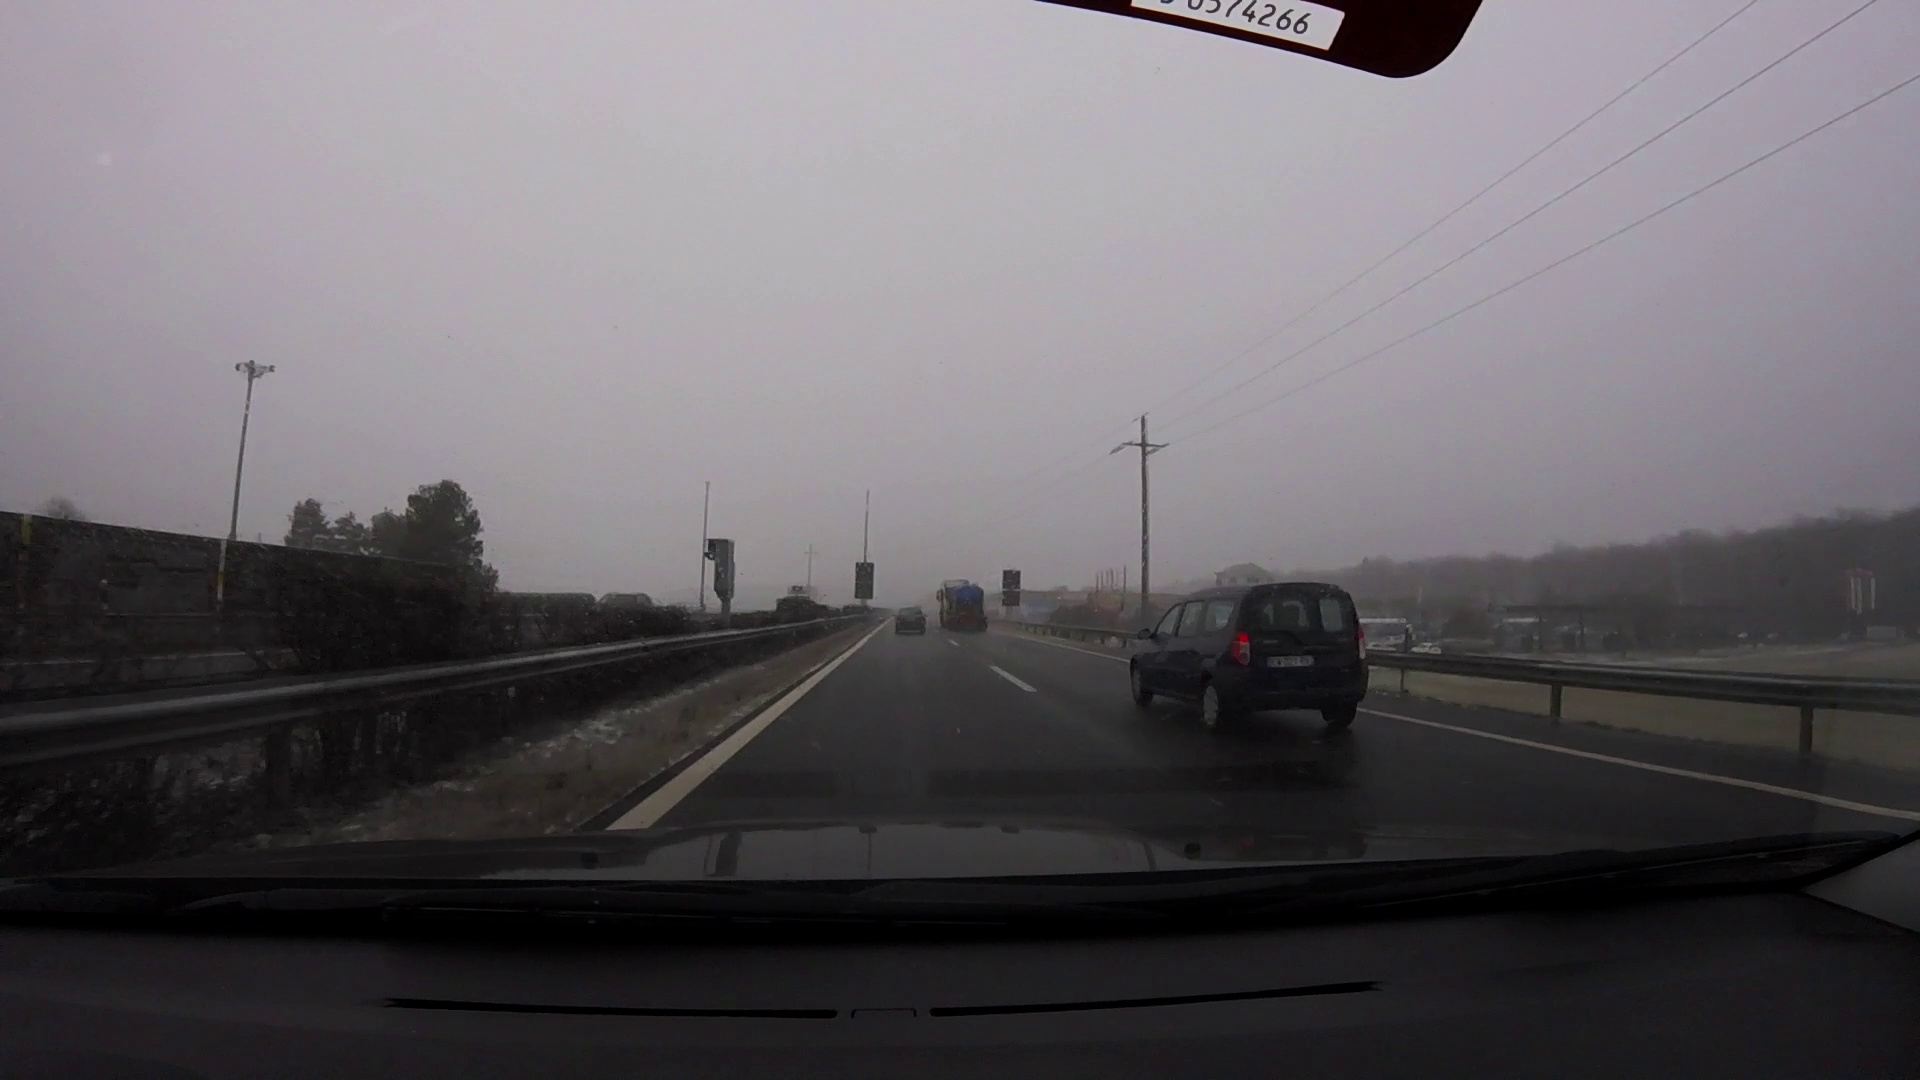radar: (703, 535, 740, 607)
